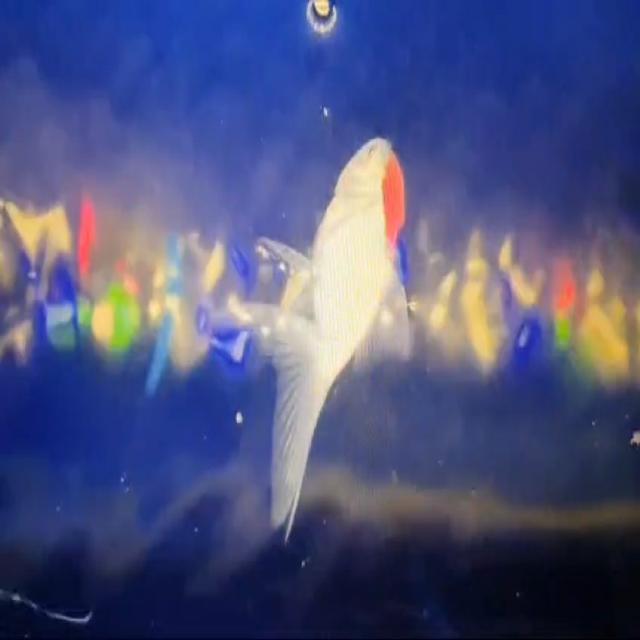fish: (232, 122, 410, 550)
